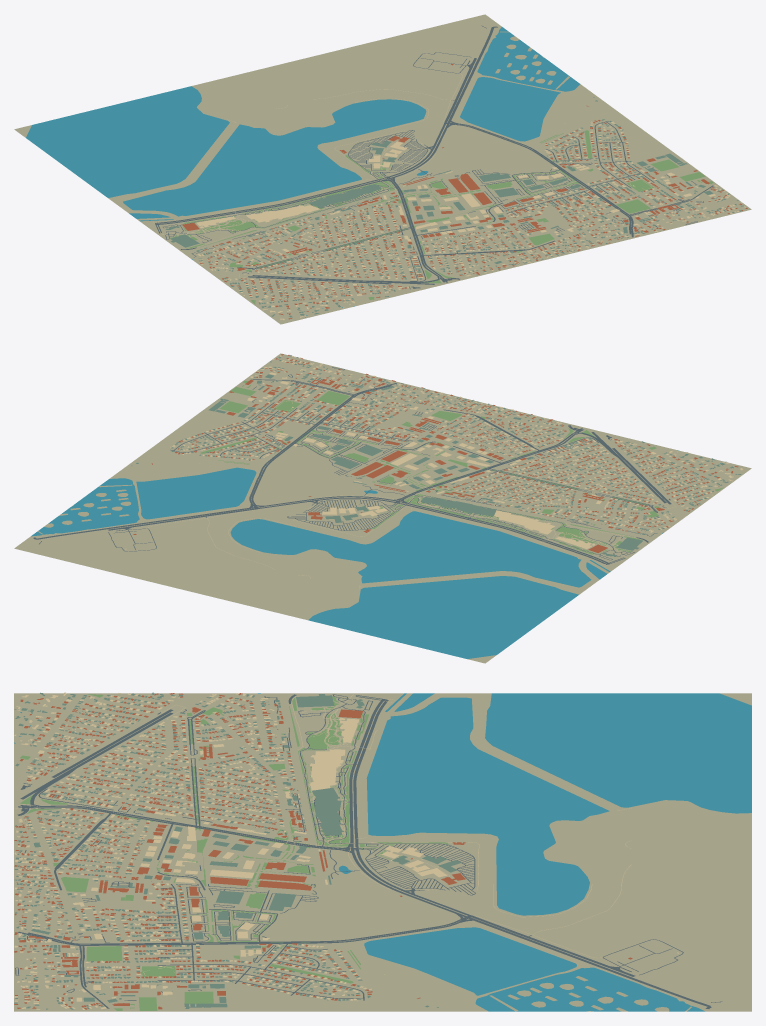
The model's file is region-lod1.glb.
3 views of the same model, one above another, from view 1: azimuth 30°, elevation 25°; view 2: azimuth 150°, elevation 25°; view 3: azimuth 270°, elevation 25° (orthographic). The views are drawn at different scales.
Size of the model in its own units: 3180 by 15.03 by 3117.
